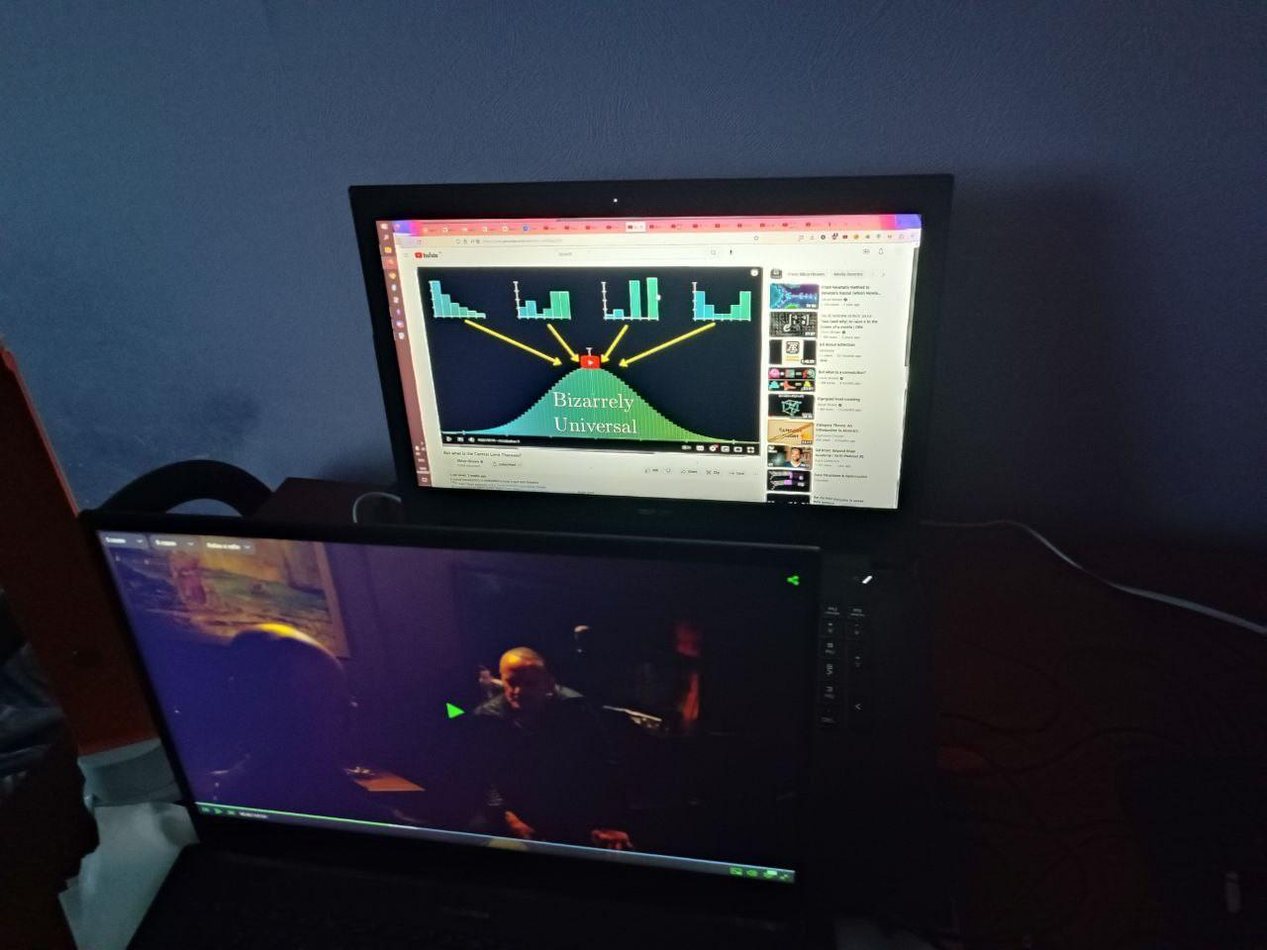monitor: (73, 496, 848, 907), (335, 167, 960, 543)
